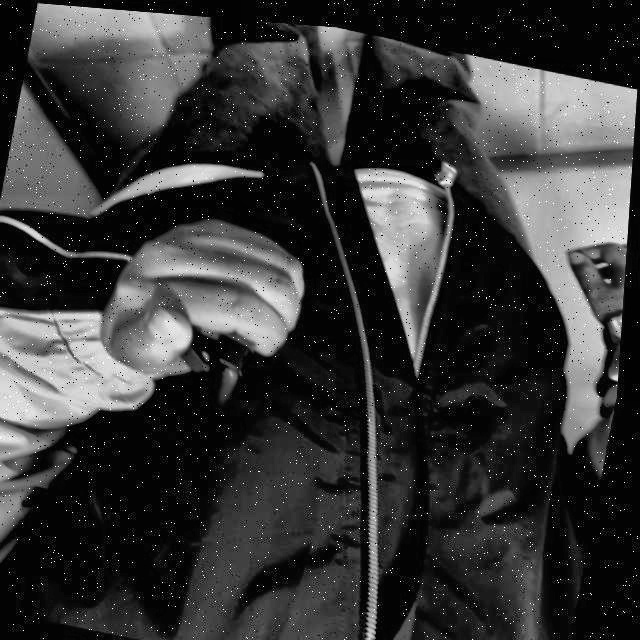Fire: (218, 361, 243, 410)
